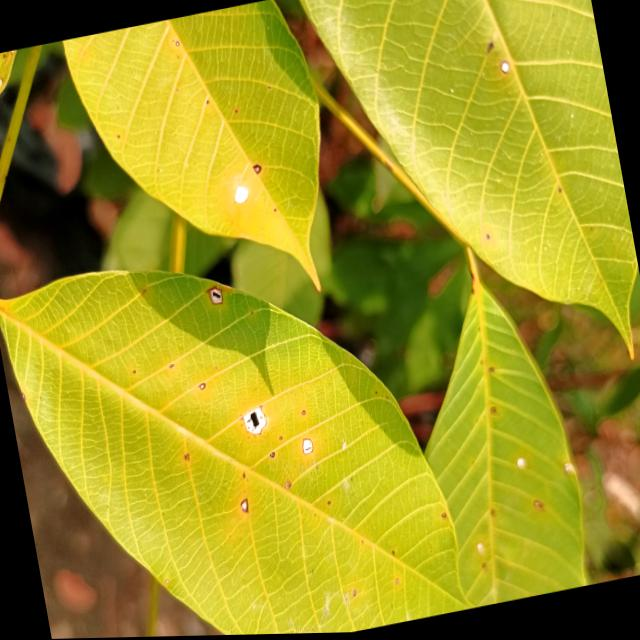Colletotrichum: (232, 183, 250, 205), (300, 437, 314, 455), (498, 60, 511, 77), (240, 498, 250, 514), (252, 163, 262, 174), (198, 382, 206, 390), (284, 480, 291, 489), (269, 451, 276, 458), (174, 39, 180, 46), (440, 513, 446, 519), (300, 410, 306, 415), (278, 436, 284, 441), (352, 589, 356, 596), (394, 578, 398, 584), (326, 501, 331, 505), (215, 367, 217, 369)
